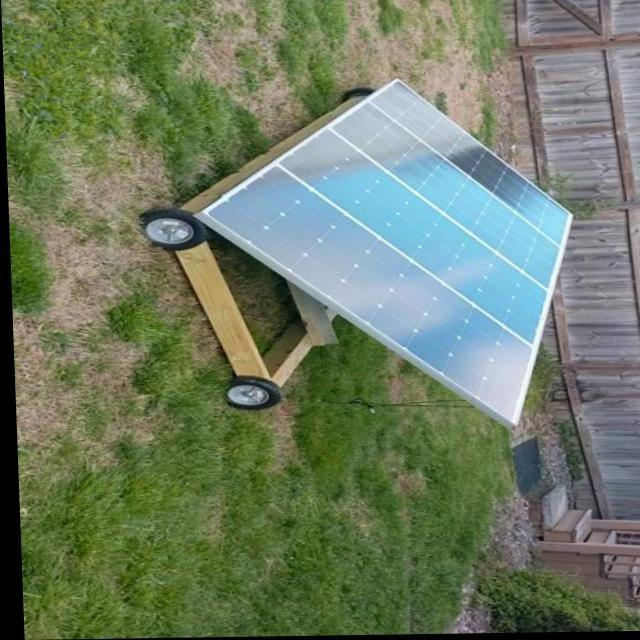Normal Solar Panel: (196, 78, 576, 430)
